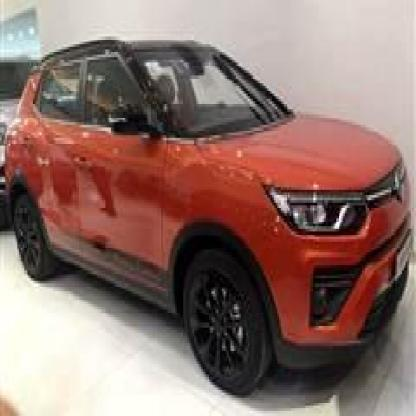Car: (0, 24, 402, 388)
